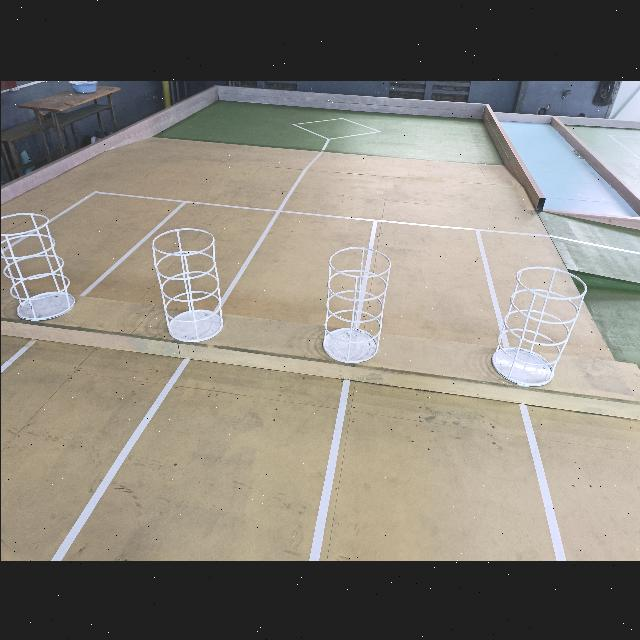S: (489, 265, 584, 384), (0, 212, 74, 322), (153, 229, 224, 341), (321, 246, 388, 362)
